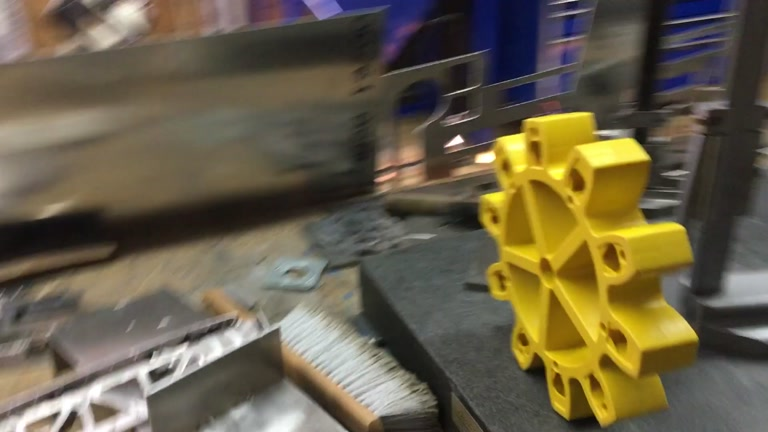gear: (478, 111, 699, 428)
